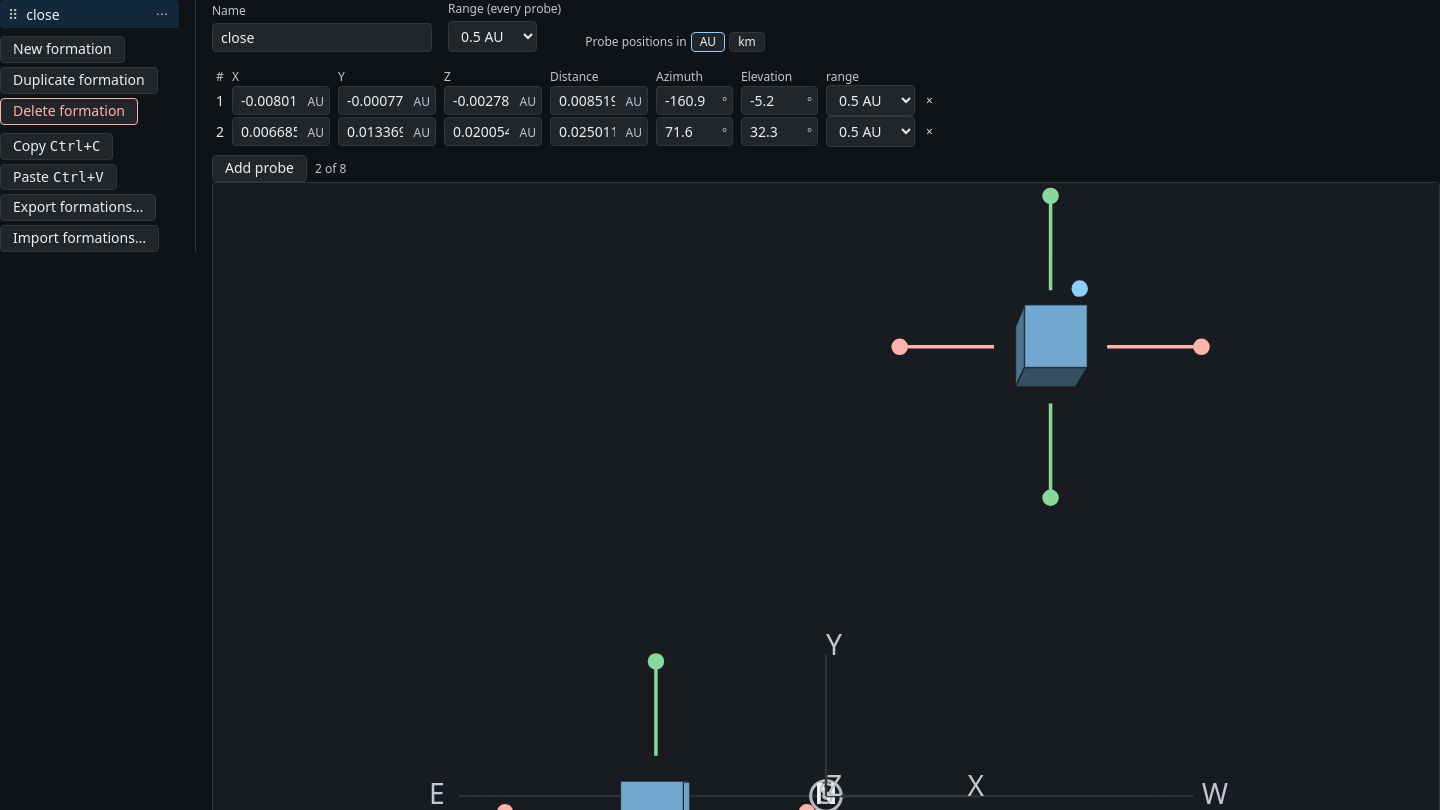
Test case: file sharing › Export asks what before it asks where
Expected: the field showing "close" is shown, [212, 23, 432, 52]
What coordinates should you click on to do the following:
click the button "Export formations…"
I would click on:
 (78, 208)
Its box is [0, 194, 156, 221].
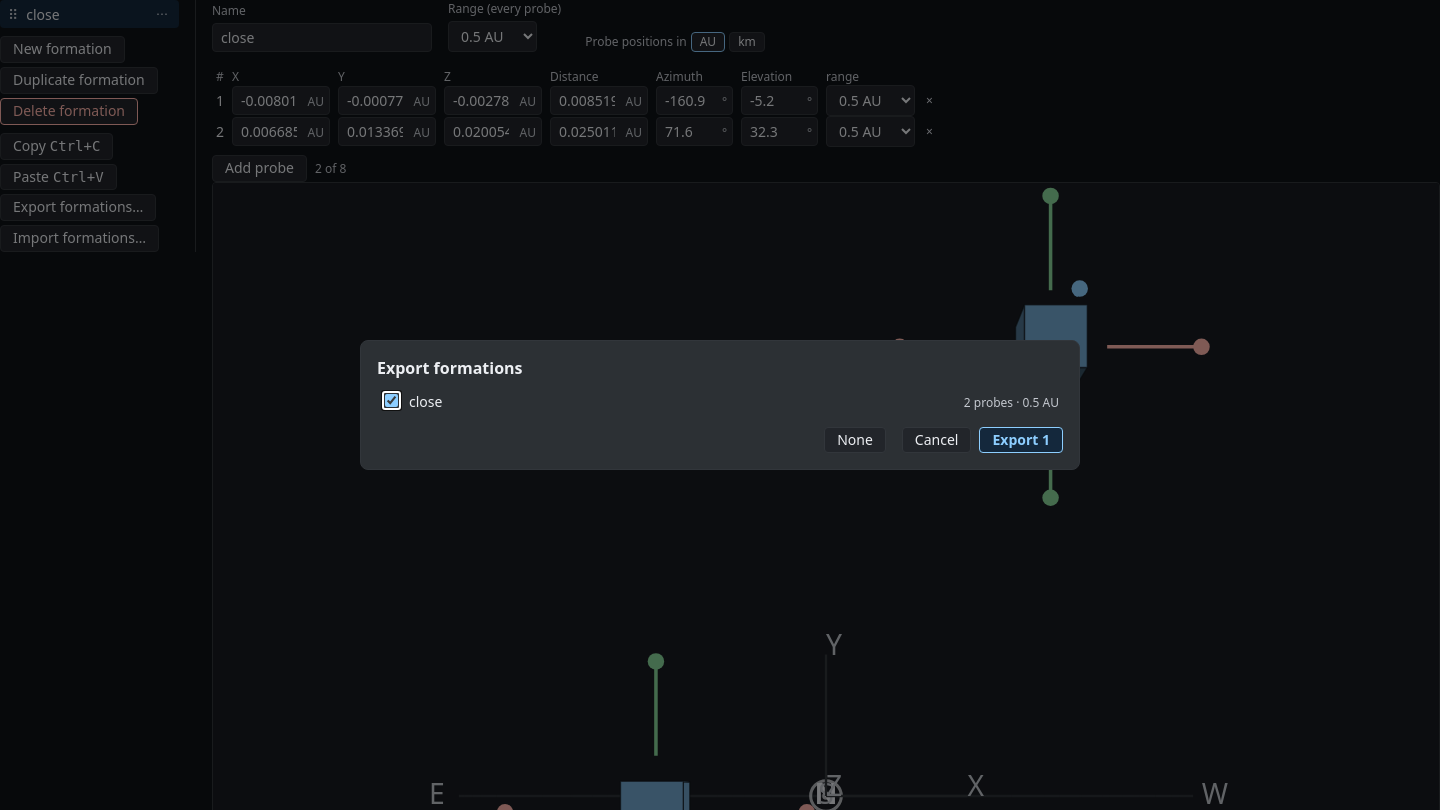
Expected: the button "Export 1" is shown, [980, 427, 1063, 453]
